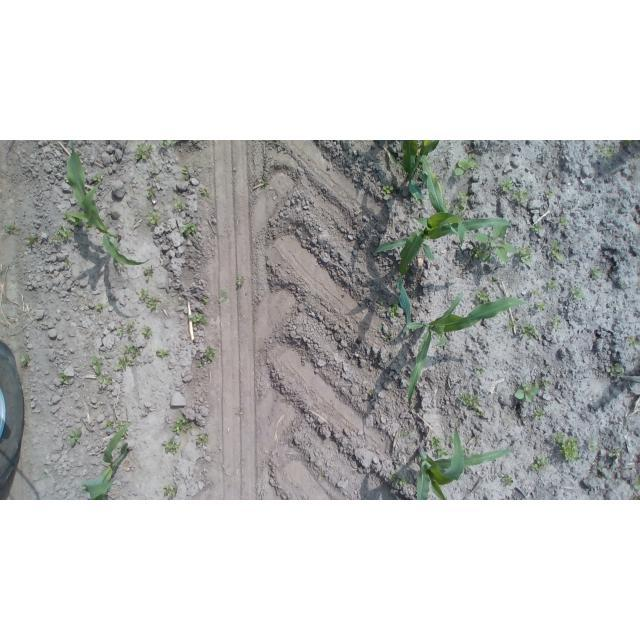Maize: (376, 152, 513, 336), (406, 292, 533, 412), (68, 141, 151, 266), (415, 428, 513, 500), (76, 421, 135, 500), (385, 140, 441, 202)
Weeds: (472, 225, 516, 263), (455, 153, 478, 175), (560, 439, 581, 462), (514, 382, 538, 402), (53, 223, 74, 243), (459, 393, 482, 411), (548, 239, 564, 262), (135, 143, 153, 161), (520, 323, 539, 340), (172, 418, 192, 434), (164, 437, 181, 455), (62, 211, 82, 226), (519, 244, 533, 265), (389, 473, 409, 487), (532, 455, 549, 471), (89, 356, 103, 375), (607, 364, 624, 379), (188, 312, 206, 326), (513, 189, 531, 203), (123, 344, 141, 357), (116, 356, 132, 370), (69, 430, 82, 447), (146, 297, 160, 312), (476, 288, 489, 304), (181, 223, 198, 235), (5, 223, 20, 236), (147, 212, 161, 225), (204, 347, 217, 361), (431, 436, 445, 449), (529, 220, 544, 232), (571, 287, 583, 302), (501, 179, 513, 194), (388, 303, 400, 318), (550, 315, 562, 329), (605, 146, 615, 162), (502, 474, 514, 487), (590, 266, 603, 278), (98, 373, 112, 384), (57, 373, 71, 384), (156, 347, 171, 357), (627, 336, 640, 347), (535, 379, 552, 387), (181, 165, 190, 180), (197, 433, 209, 444), (457, 191, 469, 202), (453, 203, 464, 215), (382, 184, 394, 195), (609, 449, 622, 459), (173, 200, 183, 212), (553, 433, 565, 443), (534, 408, 544, 420), (557, 216, 569, 226), (169, 486, 178, 499), (144, 267, 153, 280), (127, 321, 135, 335), (139, 289, 149, 300), (219, 292, 229, 303), (438, 448, 448, 459), (535, 301, 545, 311), (547, 280, 557, 290), (159, 141, 170, 150), (143, 327, 154, 336), (199, 188, 210, 197), (196, 359, 207, 368), (588, 439, 597, 450), (633, 476, 640, 490), (377, 296, 385, 308), (27, 236, 37, 245), (21, 354, 29, 365), (476, 366, 484, 377), (164, 485, 171, 497), (443, 200, 450, 212), (93, 174, 103, 182), (507, 321, 515, 331), (545, 188, 553, 198), (413, 194, 421, 204), (116, 421, 124, 430), (236, 277, 244, 286), (532, 287, 540, 295), (447, 435, 454, 444), (596, 146, 605, 153), (385, 333, 392, 342), (117, 325, 123, 335), (624, 140, 634, 146), (97, 303, 104, 311), (147, 188, 153, 197), (600, 474, 609, 480), (170, 141, 180, 146), (62, 259, 69, 266), (107, 422, 114, 429), (149, 166, 155, 174), (401, 431, 409, 437), (235, 411, 244, 416), (492, 277, 497, 286), (123, 431, 129, 438), (477, 410, 484, 416), (114, 262, 122, 267), (463, 449, 470, 454), (398, 452, 405, 457), (64, 176, 69, 182), (621, 283, 626, 289), (598, 466, 604, 471), (369, 390, 375, 395), (203, 299, 208, 304), (262, 181, 267, 186), (42, 472, 47, 477), (319, 472, 323, 478), (546, 365, 550, 368)
